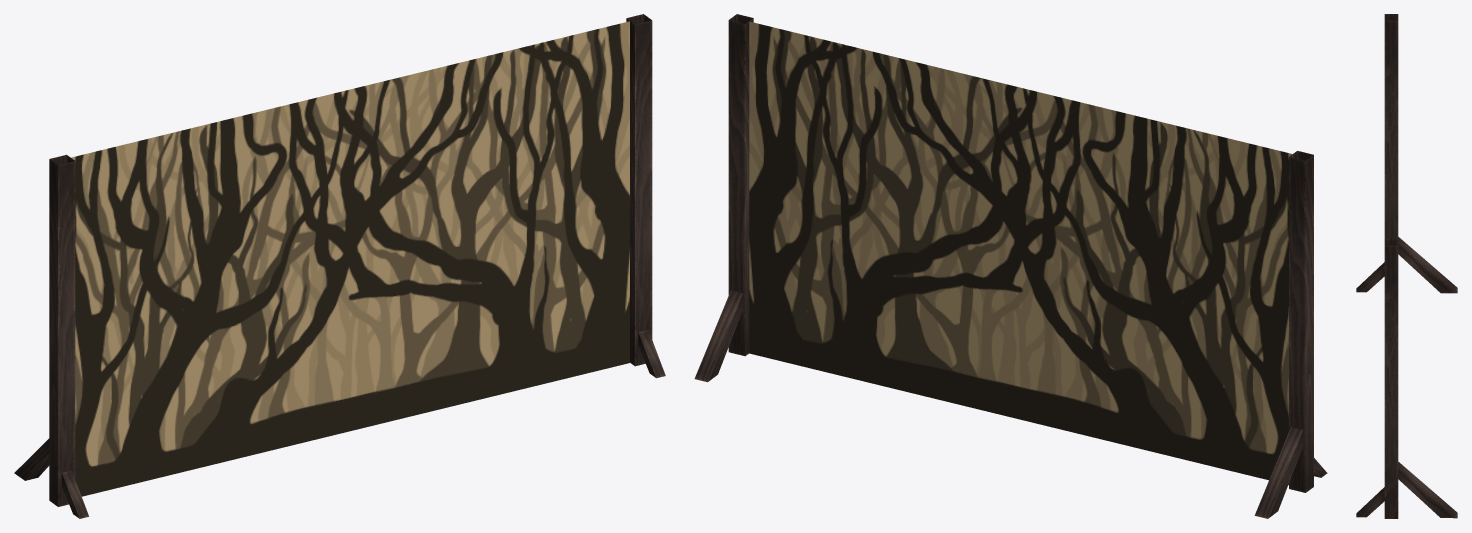
File: Theater.Setpiece_4.fbx
3 views of the same model, side by side, from view 1: azimuth 30°, elevation 25°; view 2: azimuth 150°, elevation 25°; view 3: azimuth 270°, elevation 25° (orthographic). The views are drawn at different scales.
Visible parts, largest first — view 1: Theater.Setpiece_4; view 2: Theater.Setpiece_4; view 3: Theater.Setpiece_4.
Boxes of the visible parts, x1=… form: Theater.Setpiece_4: x1=14, y1=14, x2=665, y2=518; Theater.Setpiece_4: x1=694, y1=14, x2=1327, y2=518; Theater.Setpiece_4: x1=1356, y1=14, x2=1457, y2=518.
Size of the model in its own units: 795 by 437 by 147.
